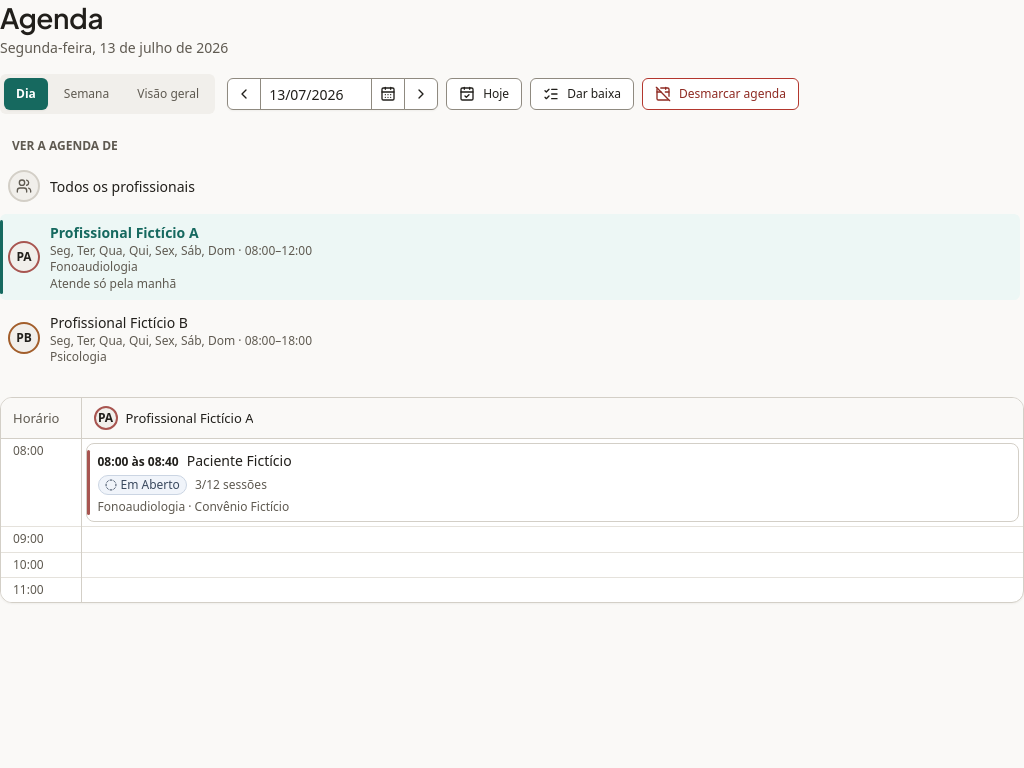
Test: Agenda — o gesto "Dar baixa" na barra (baixa-em-lote-por-status) › deve manter o botão sem status aplicável e abrir o diálogo no estado vazio
Check: the button "Paciente Fictício" is shown, box x1=187 y1=450 x2=1010 y2=471
What coordinates should you click on to do the following:
click the button "Dar baixa"
I would click on:
 (582, 94)
Its box is x1=530 y1=78 x2=634 y2=110.
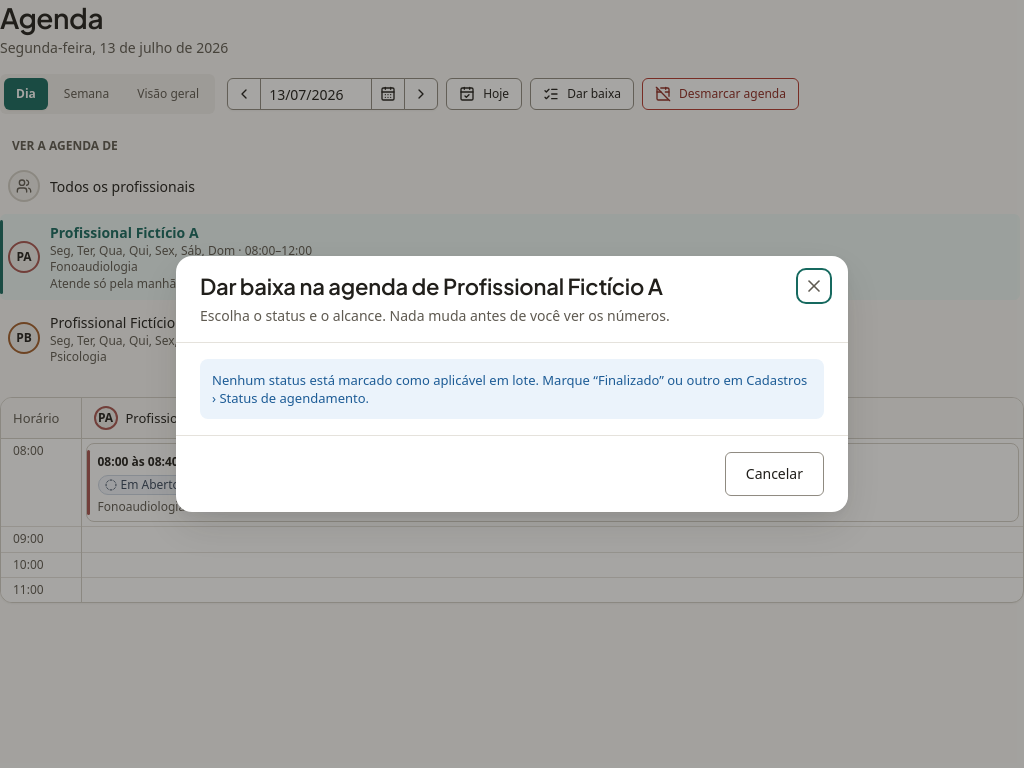
Check: the dialog "Dar baixa na agenda de Profissional Fictício A" is shown, box x1=176 y1=256 x2=848 y2=512
Check: the text "Nenhum status está marcado como aplicável em lote" is shown, box x1=212 y1=371 x2=807 y2=407
